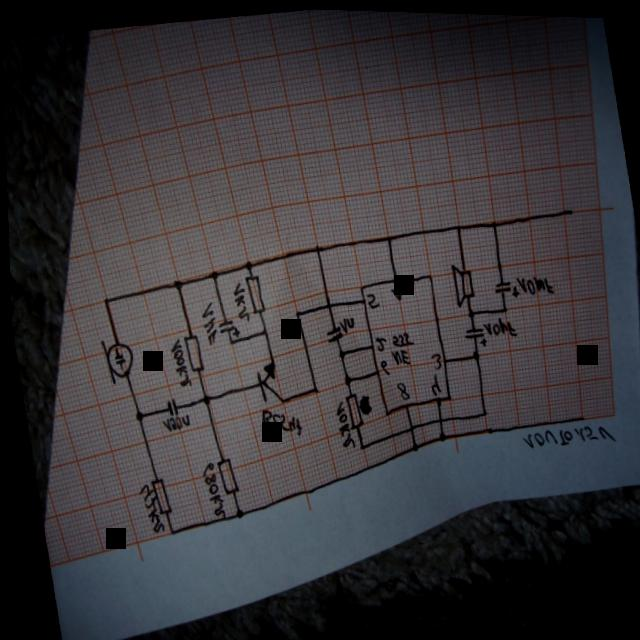capacitor: (490, 276, 516, 297), (460, 323, 483, 346), (214, 317, 236, 337), (320, 323, 340, 342), (161, 395, 174, 416)
crossover: (321, 298, 329, 308), (403, 421, 410, 431), (432, 414, 439, 422)
junction: (169, 277, 180, 290), (206, 268, 216, 280), (241, 257, 250, 270), (130, 408, 139, 421), (197, 392, 206, 405), (230, 506, 239, 518), (339, 372, 347, 385), (310, 242, 320, 252), (467, 347, 476, 358), (433, 429, 442, 440), (257, 325, 266, 336), (463, 306, 471, 316), (407, 439, 414, 450), (334, 347, 341, 358), (487, 217, 495, 226), (307, 383, 315, 392), (382, 231, 389, 241), (353, 440, 360, 450), (497, 303, 505, 311), (452, 220, 459, 229), (290, 307, 297, 316), (224, 336, 231, 345), (477, 407, 484, 415), (99, 296, 106, 304), (164, 527, 170, 535)
resistor: (211, 454, 235, 494), (240, 271, 262, 313), (144, 475, 167, 515), (179, 331, 201, 372), (340, 389, 360, 429)
terminal: (563, 200, 572, 214), (574, 410, 583, 420)
text: (514, 417, 613, 450), (131, 480, 160, 534), (255, 403, 298, 439), (196, 459, 220, 518), (164, 335, 188, 388), (329, 398, 350, 448), (384, 327, 413, 363), (512, 270, 551, 295), (478, 310, 513, 337), (195, 298, 215, 345), (227, 279, 248, 322), (156, 412, 188, 432), (334, 312, 353, 332), (424, 370, 438, 393), (391, 378, 406, 397), (362, 289, 376, 308), (386, 282, 400, 299), (370, 333, 384, 350), (425, 350, 439, 367), (375, 356, 387, 373)
transistor: (250, 358, 279, 403)
